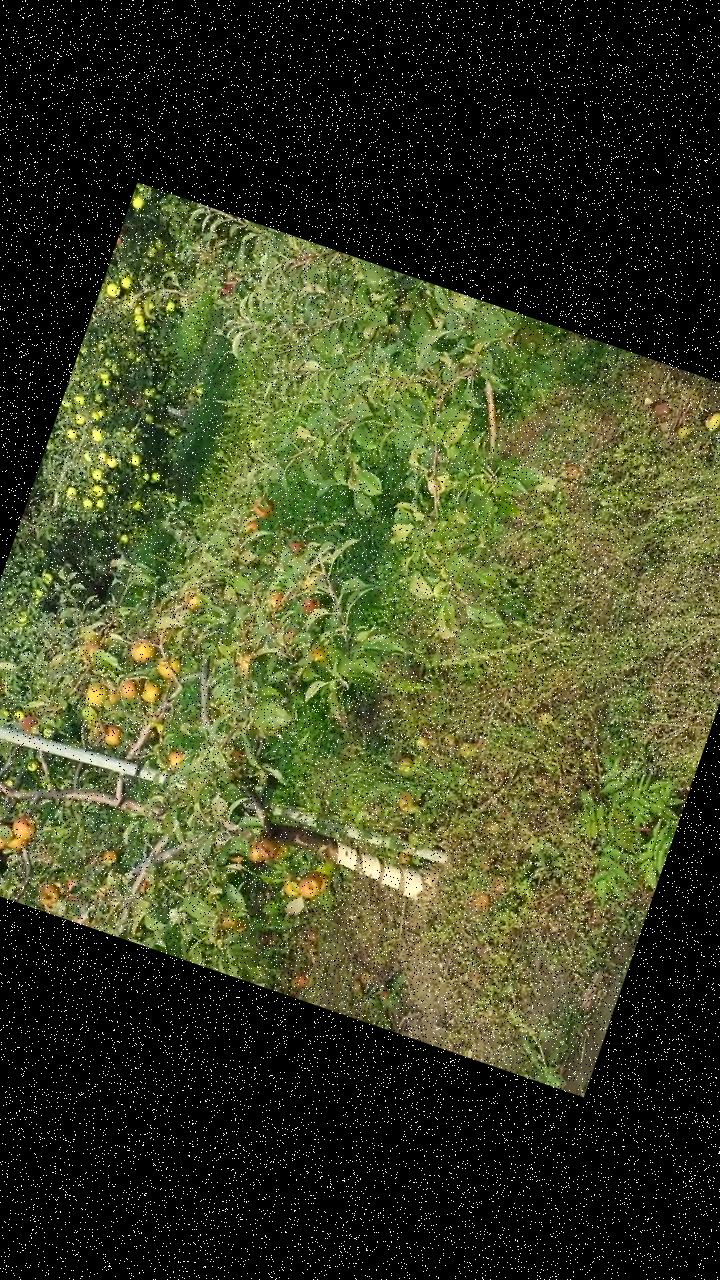Apple: (124, 636, 158, 668), (215, 912, 248, 942), (6, 813, 36, 843), (299, 867, 330, 896), (153, 652, 180, 682), (246, 494, 274, 522), (82, 678, 108, 708), (250, 834, 276, 864), (264, 836, 290, 863), (79, 637, 103, 664), (292, 876, 318, 900), (138, 681, 162, 706), (35, 882, 59, 906), (296, 594, 322, 616), (116, 676, 138, 700), (278, 877, 302, 899), (98, 724, 120, 747), (16, 714, 38, 736), (97, 846, 118, 868), (181, 593, 202, 614), (2, 836, 23, 856), (241, 516, 260, 536), (164, 749, 182, 770), (238, 651, 254, 672), (0, 822, 11, 852), (264, 590, 282, 608), (244, 846, 261, 864), (308, 646, 326, 662), (286, 537, 300, 554)
